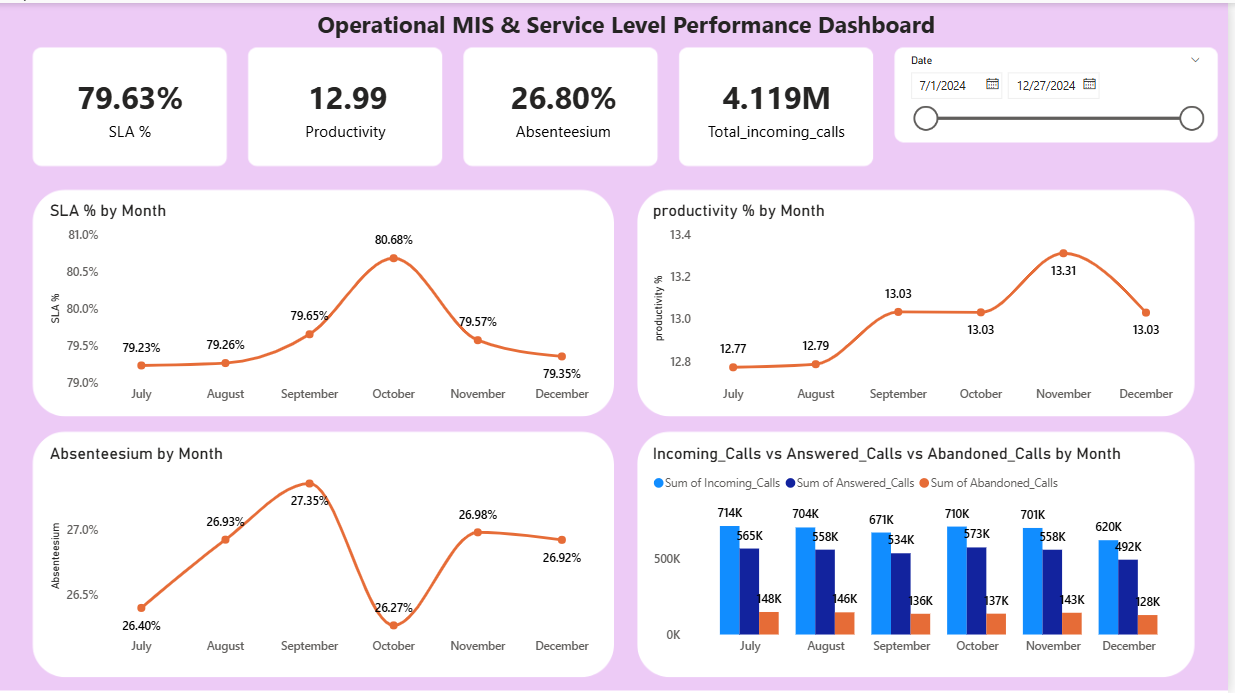

What the dashboard file says about the page in this screenshot:
{"tool":"powerbi","page":{"name":"Page 2","canvas":[1280,720],"ordinal":0},"visuals":[{"type":"card","fields":{"Values":["Genpact_MIS_Complete_Dataset_22000plus.SLA %"]},"box":[46.9,59.4,176.6,98.5],"z":0},{"type":"card","fields":{"Values":["Genpact_MIS_Complete_Dataset_22000plus.productivity %"]},"box":[273.5,59.4,176.6,98.5],"z":1000},{"type":"card","fields":{"Values":["Genpact_MIS_Complete_Dataset_22000plus.Absenteesium"]},"box":[498.6,59.4,176.6,98.5],"z":2000},{"type":"card","fields":{"Values":["Genpact_MIS_Complete_Dataset_22000plus.Total_incoming_calls"]},"box":[720.5,59.4,176.6,98.5],"z":3000},{"type":"lineChart","fields":{"Y":["Genpact_MIS_Complete_Dataset_22000plus.SLA %"],"Category":["Genpact_MIS_Complete_Dataset_22000plus.Date.Variation.Date Hierarchy.Month"]},"box":[46.9,206.3,578.3,218.8],"z":4000},{"type":"slicer","fields":{"Values":["Genpact_MIS_Complete_Dataset_22000plus.Date"]},"box":[936.2,48.5,326.7,92.2],"z":5000},{"type":"lineChart","fields":{"Category":["Genpact_MIS_Complete_Dataset_22000plus.Date.Variation.Date Hierarchy.Month"],"Y":["Genpact_MIS_Complete_Dataset_22000plus.productivity %"]},"box":[675.2,206.3,558,218.8],"z":6000},{"type":"lineChart","fields":{"Category":["Genpact_MIS_Complete_Dataset_22000plus.Date.Variation.Date Hierarchy.Month"],"Y":["Genpact_MIS_Complete_Dataset_22000plus.Absenteesium"]},"box":[46.9,459.5,578.3,228.2],"z":7000},{"type":"clusteredColumnChart","title":"Incoming_Calls vs Answered_Calls vs Abandoned_Calls by Month","fields":{"Category":["Genpact_MIS_Complete_Dataset_22000plus.Date.Variation.Date Hierarchy.Month"],"Y":["Sum(Genpact_MIS_Complete_Dataset_22000plus.Incoming_Calls)","Sum(Genpact_MIS_Complete_Dataset_22000plus.Answered_Calls)","Sum(Genpact_MIS_Complete_Dataset_22000plus.Abandoned_Calls)"]},"box":[675.2,459.5,568.9,228.2],"z":8000},{"type":"textbox","box":[223.5,0,858.1,59.4],"z":8001}]}

Visuals, with their boxes in screenshot pixels (x1, y1, x2, y2), scaled from the page's 1280x720 canvas onto the 1235x693 screenshot:
card - Genpact_MIS_Complete_Dataset_22000plus.SLA %: [left=45, top=57, right=216, bottom=152]
card - Genpact_MIS_Complete_Dataset_22000plus.productivity %: [left=264, top=57, right=434, bottom=152]
card - Genpact_MIS_Complete_Dataset_22000plus.Absenteesium: [left=481, top=57, right=651, bottom=152]
card - Genpact_MIS_Complete_Dataset_22000plus.Total_incoming_calls: [left=695, top=57, right=866, bottom=152]
lineChart - Genpact_MIS_Complete_Dataset_22000plus.SLA % x Genpact_MIS_Complete_Dataset_22000plus.Date.Variation.Date Hierarchy.Month: [left=45, top=199, right=603, bottom=409]
slicer - Genpact_MIS_Complete_Dataset_22000plus.Date: [left=903, top=47, right=1219, bottom=135]
lineChart - Genpact_MIS_Complete_Dataset_22000plus.Date.Variation.Date Hierarchy.Month x Genpact_MIS_Complete_Dataset_22000plus.productivity %: [left=651, top=199, right=1190, bottom=409]
lineChart - Genpact_MIS_Complete_Dataset_22000plus.Date.Variation.Date Hierarchy.Month x Genpact_MIS_Complete_Dataset_22000plus.Absenteesium: [left=45, top=442, right=603, bottom=662]
"Incoming_Calls vs Answered_Calls vs Abandoned_Calls by Month" clusteredColumnChart: [left=651, top=442, right=1200, bottom=662]
textbox: [left=216, top=0, right=1044, bottom=57]
